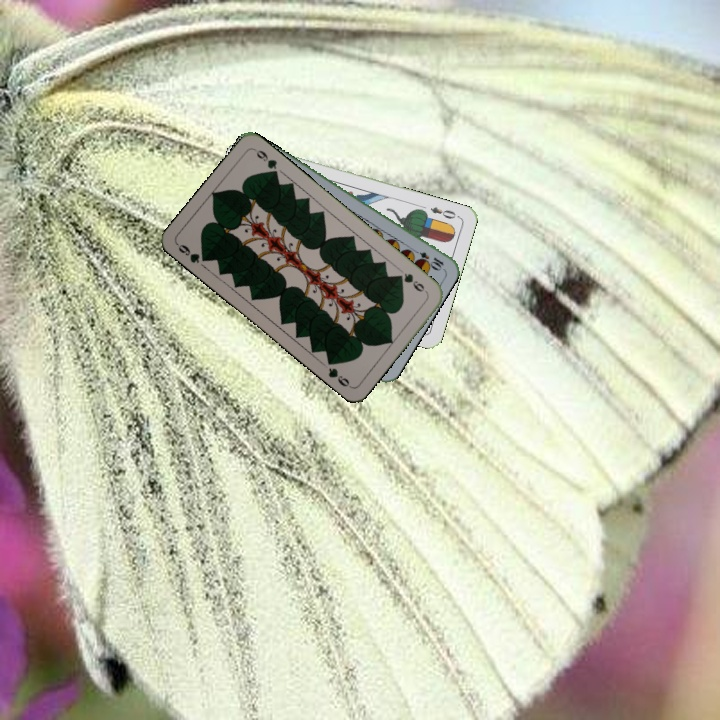E10: (408, 245, 446, 272)
EO: (426, 203, 462, 221)
G9: (173, 240, 212, 266), (393, 269, 430, 296)
